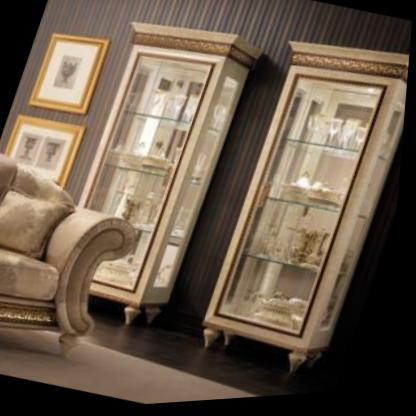Cupboard: (206, 45, 411, 376), (75, 23, 261, 326)
